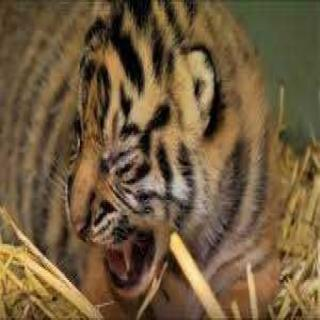Tiger: (53, 0, 306, 304)
